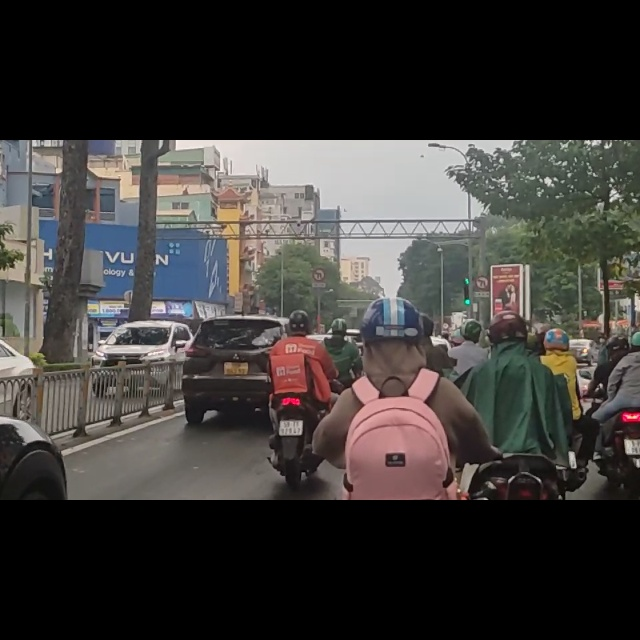bien_cam: (475, 239, 490, 267), (312, 229, 325, 251)
